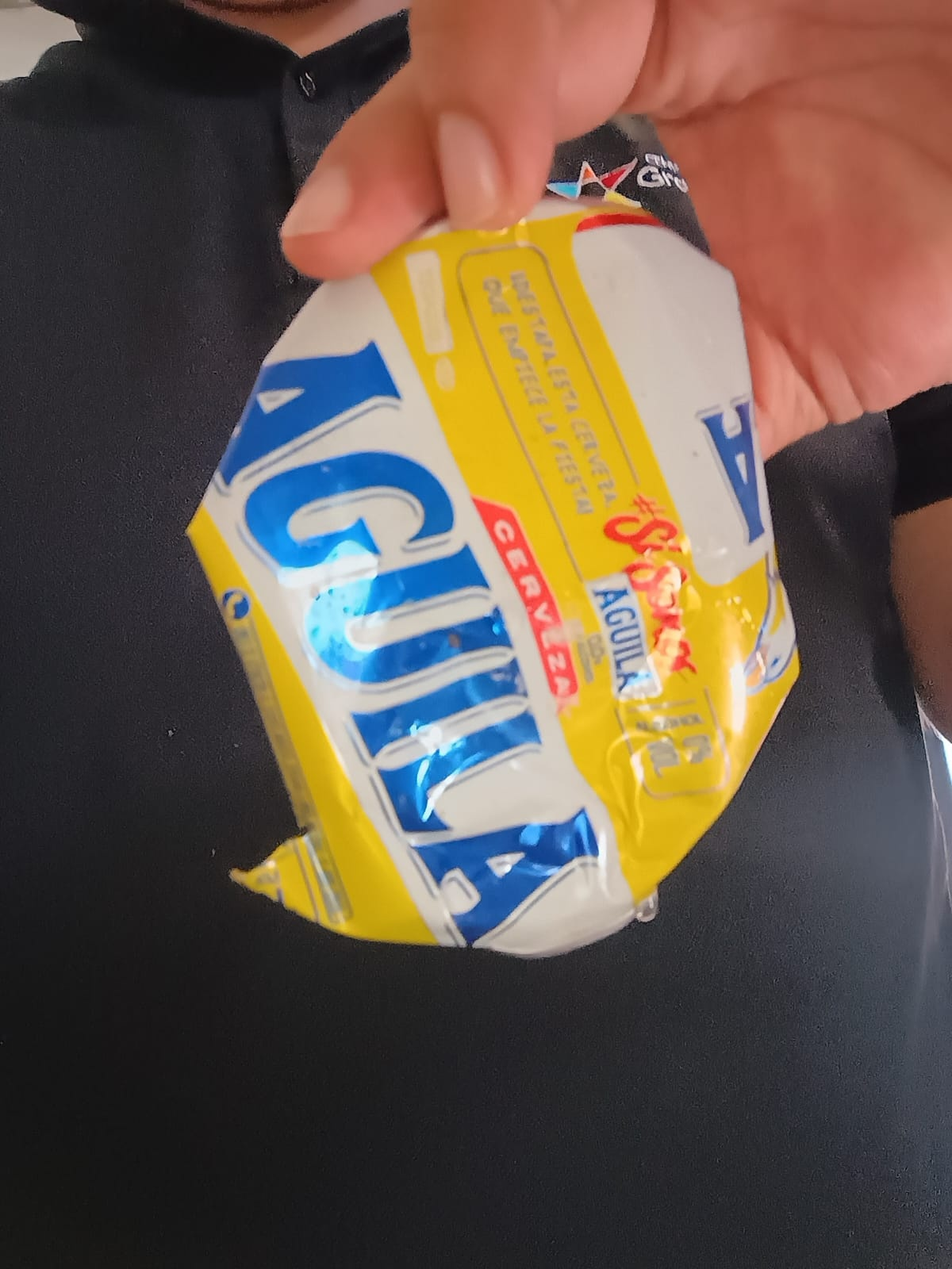Metal: (184, 170, 811, 954)
